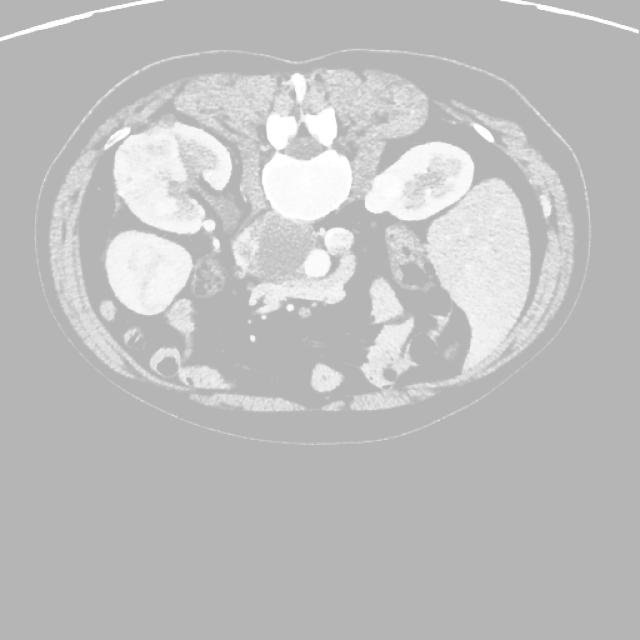TUMOR: (81, 240, 496, 412)
